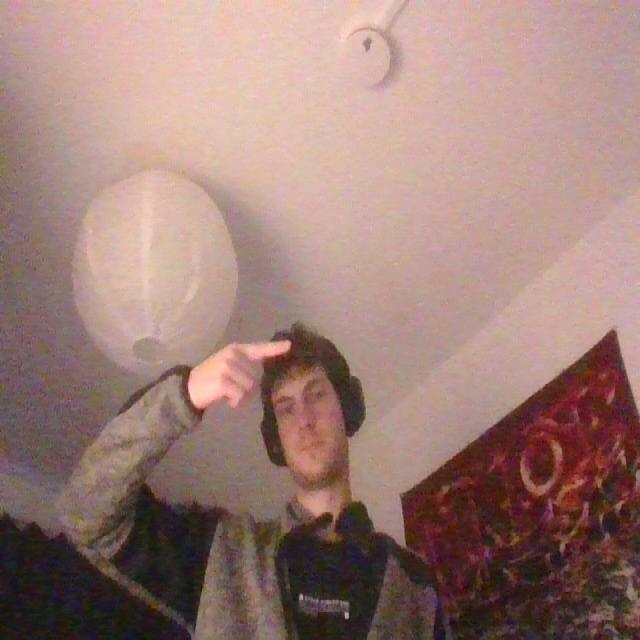right: (188, 335, 294, 413)
